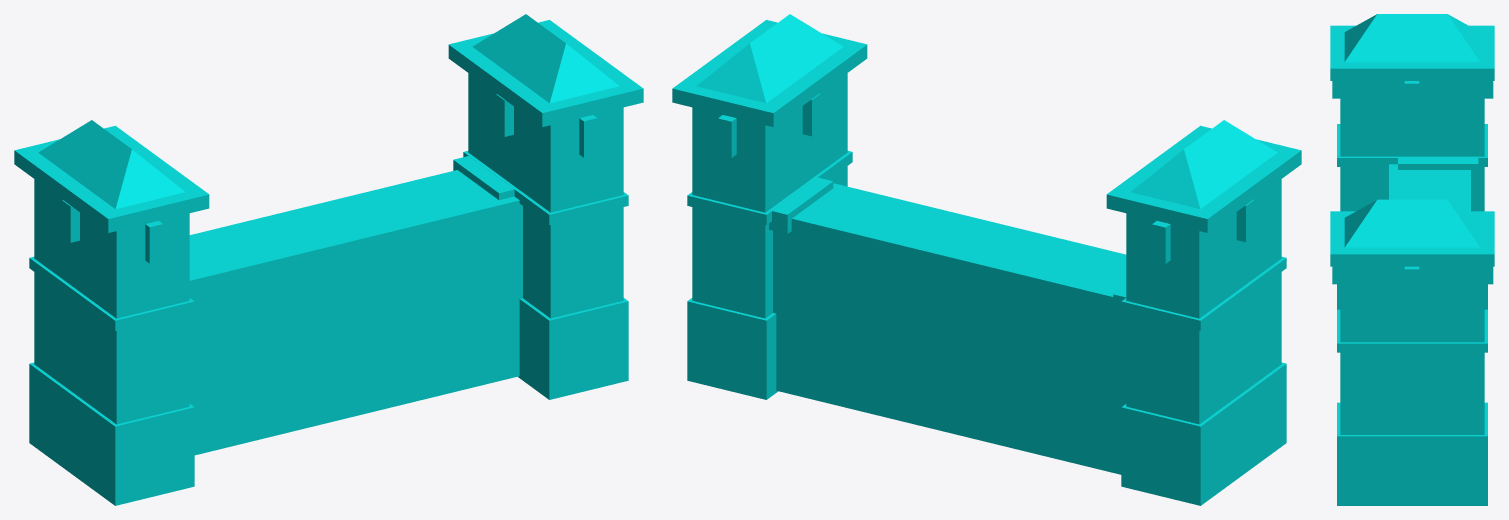
The model's file is SM_Env_Drawbridge_Base_01_Collision.fbx.
3 renders of one model, left to right at view 1: azimuth 30°, elevation 25°; view 2: azimuth 150°, elevation 25°; view 3: azimuth 270°, elevation 25°, orthographic. The views are drawn at different scales.
Visible parts, largest first — view 1: SM_Env_Drawbridge_Base_01_Collision; view 2: SM_Env_Drawbridge_Base_01_Collision; view 3: SM_Env_Drawbridge_Base_01_Collision.
Boxes of the visible parts, x1,y1,x2,y2 form: SM_Env_Drawbridge_Base_01_Collision: (14,14,643,505); SM_Env_Drawbridge_Base_01_Collision: (672,14,1301,505); SM_Env_Drawbridge_Base_01_Collision: (1330,14,1494,505).
Bounding box in the file's own units: 1734 × 1023 × 527.
